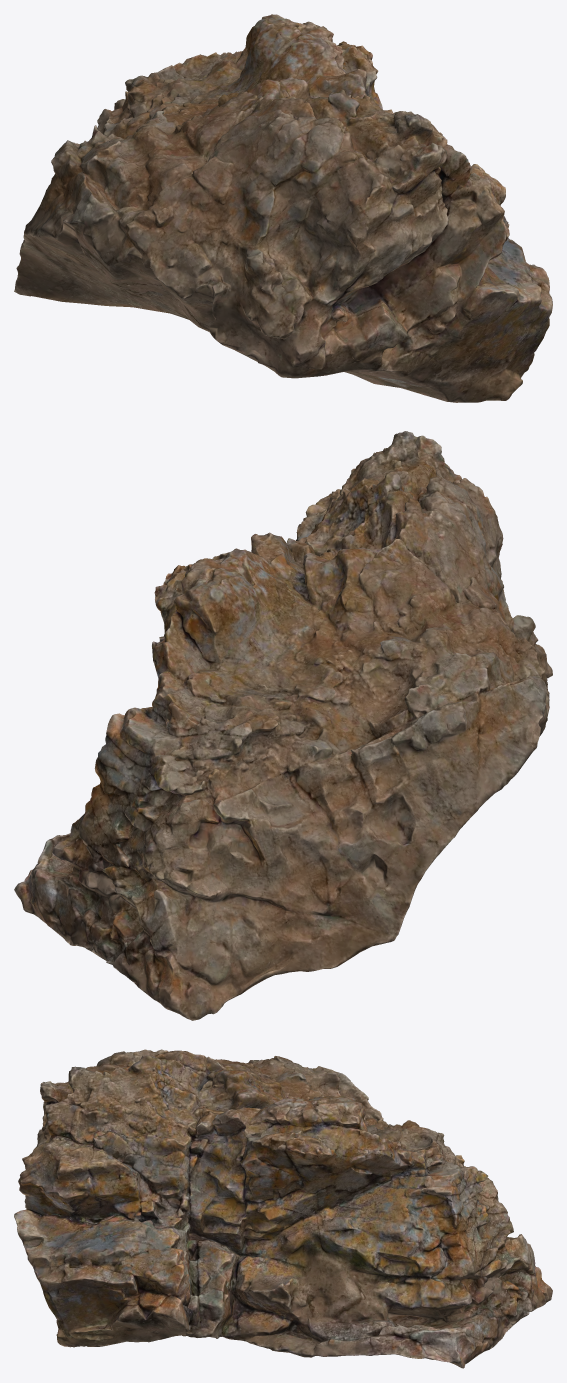
Rendered from boulder_01.glb.
3 renders of one model, top to bottom at view 1: azimuth 30°, elevation 25°; view 2: azimuth 150°, elevation 25°; view 3: azimuth 270°, elevation 25°, orthographic. The views are drawn at different scales.
Parts seen in each view (by area): view 1: boulder_01; view 2: boulder_01; view 3: boulder_01.
Part boxes in pixels (left/top/right/bottom): boulder_01: left=14, top=14, right=552, bottom=402; boulder_01: left=14, top=431, right=552, bottom=1020; boulder_01: left=14, top=1049, right=552, bottom=1368.
Size of the model in its own units: 1.27 by 1 by 1.83.
Materials: 1 (1 with a texture image).
